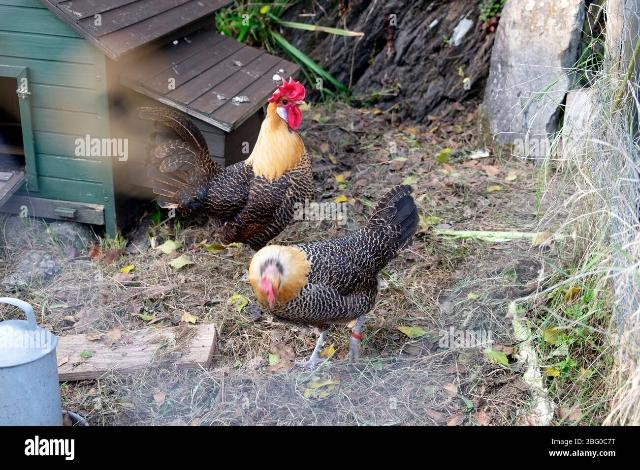Chicken: (248, 185, 419, 368), (142, 78, 314, 247)
